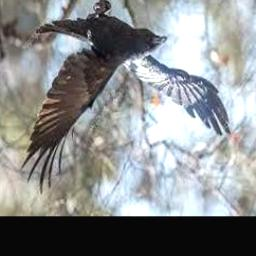Crow: (21, 0, 232, 194)
